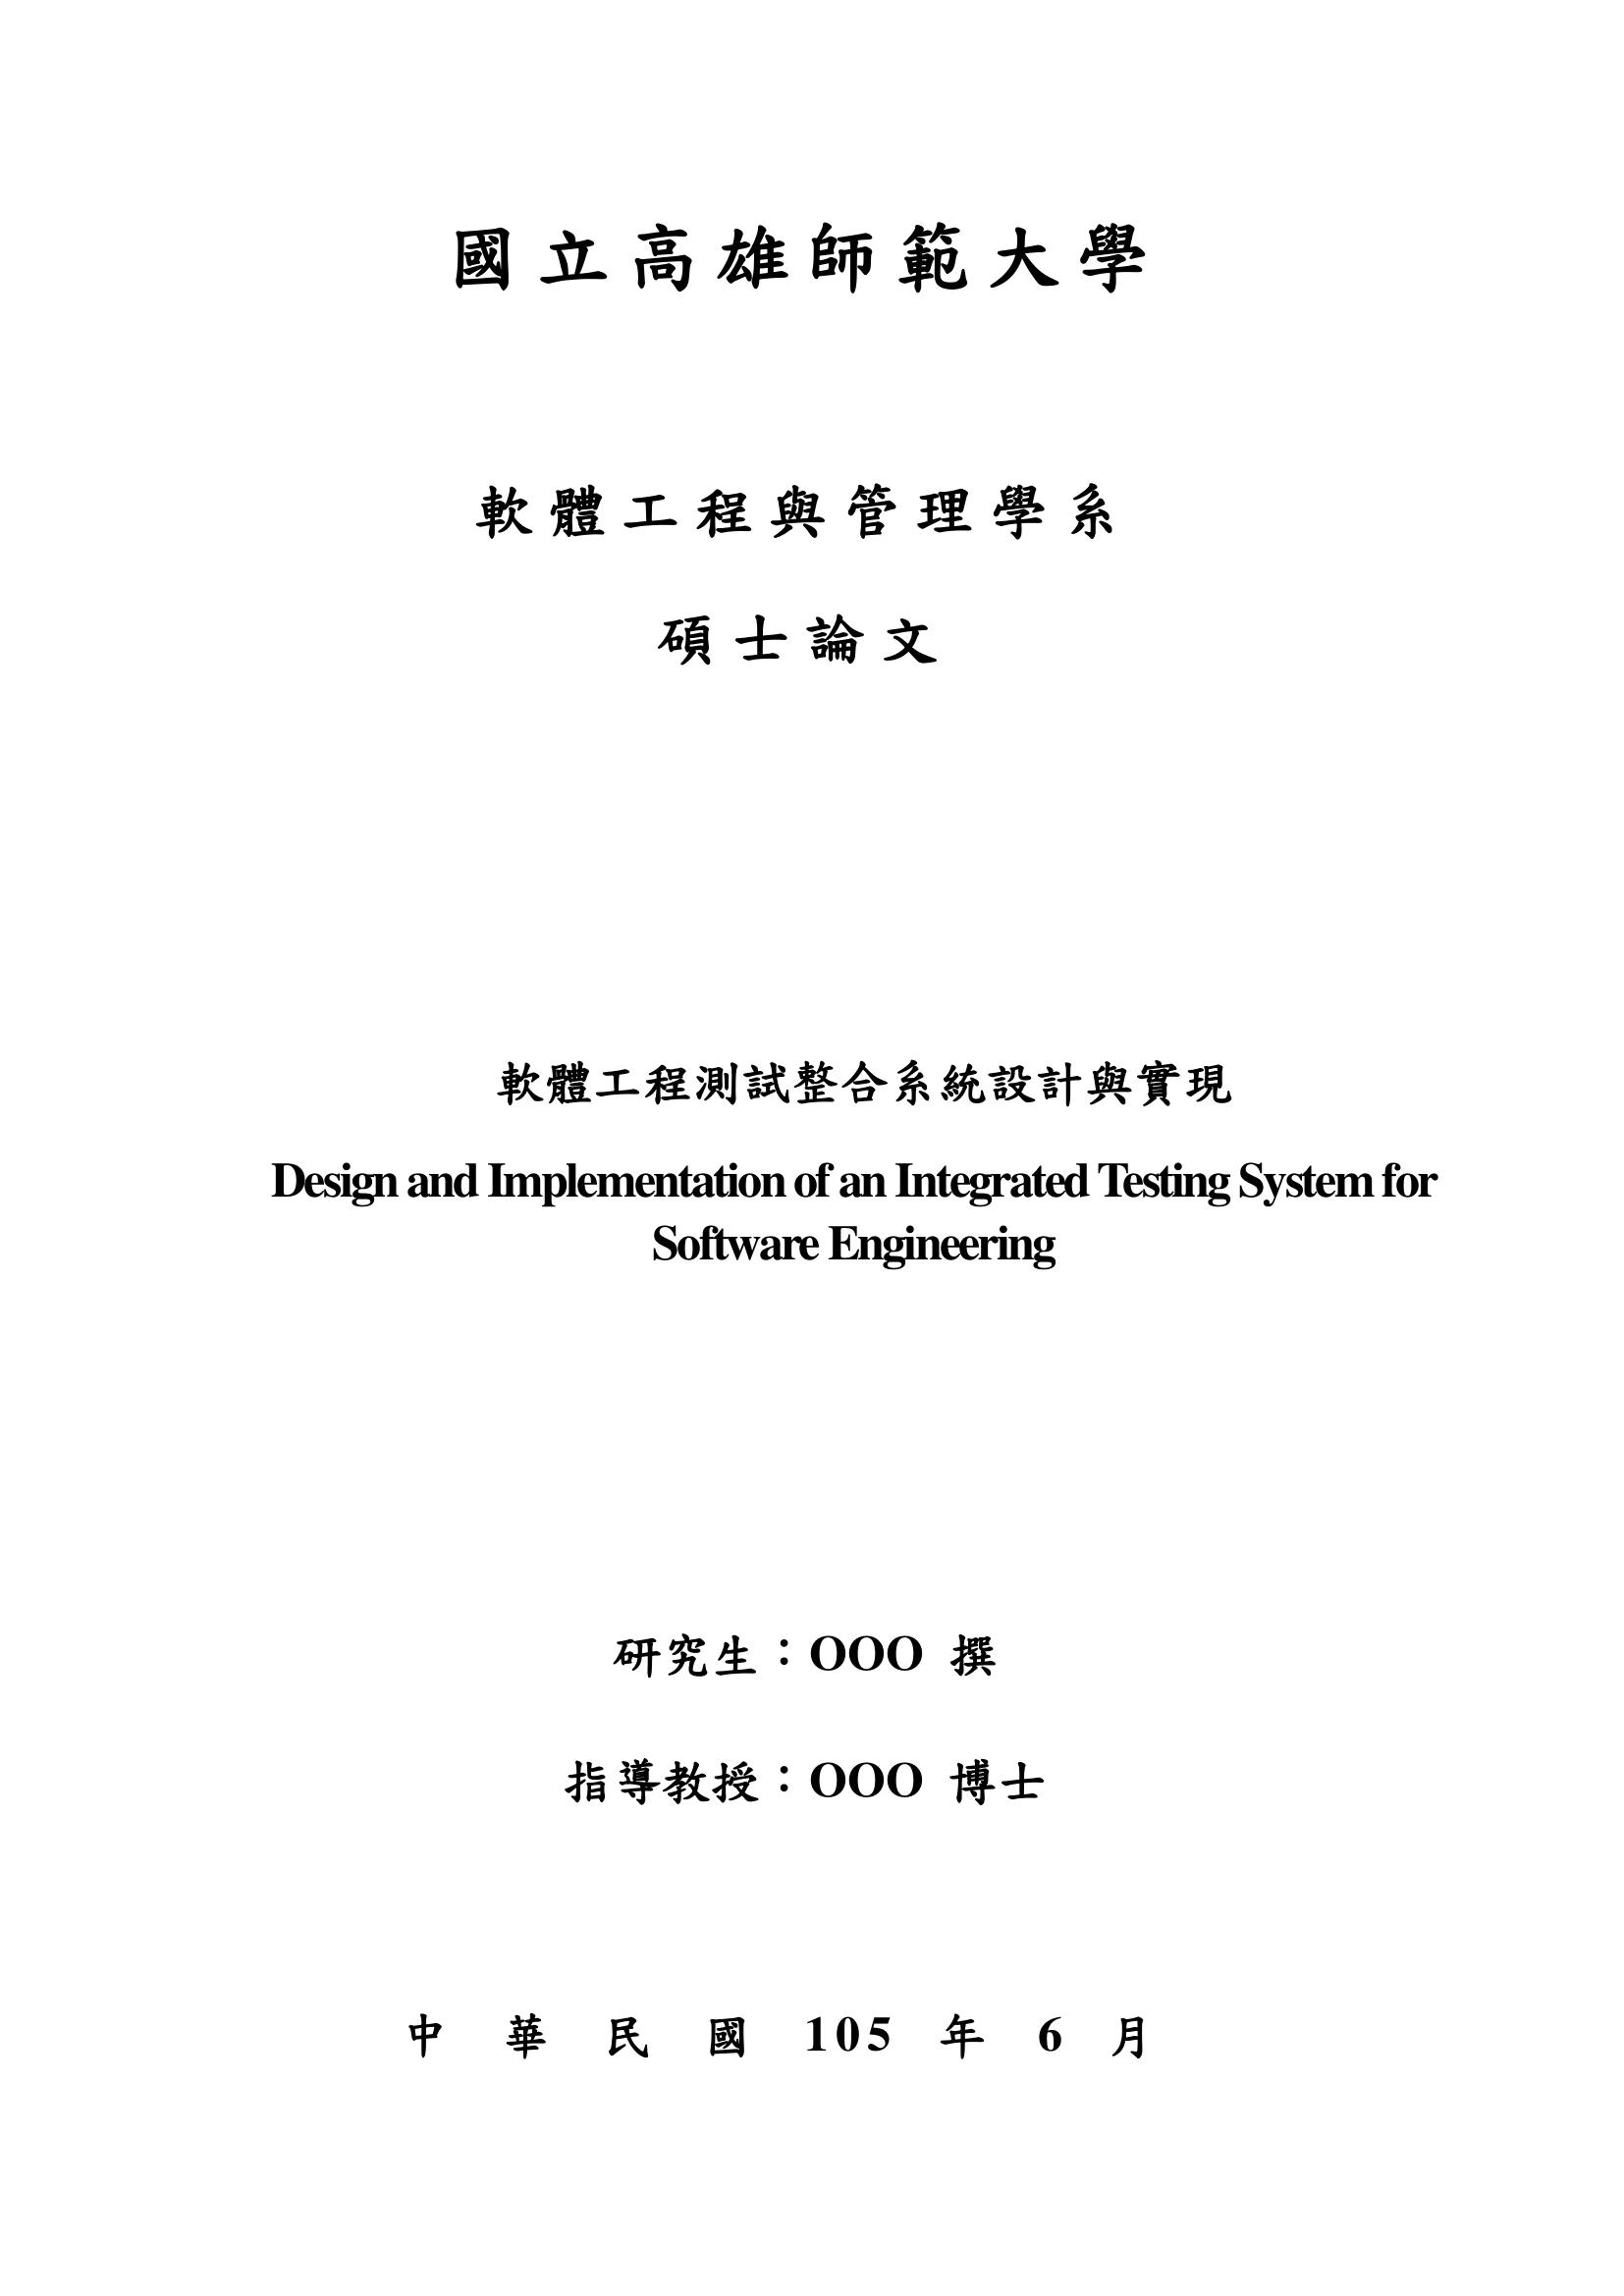text: (257, 1145, 1454, 1289), (445, 211, 1165, 309), (381, 1994, 1179, 2080), (480, 1038, 1253, 1123), (453, 466, 1134, 555), (541, 1748, 1051, 1820), (598, 1623, 1018, 1690), (638, 599, 956, 685)
